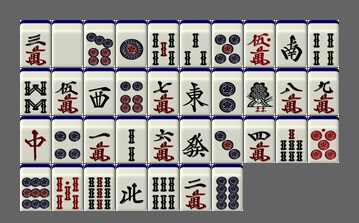0m: (244, 20, 275, 67)
0p: (308, 116, 339, 163)
0s: (52, 164, 83, 211)
1m: (84, 116, 115, 163)
1p: (116, 20, 147, 67)
1s: (244, 68, 275, 115)
1z: (180, 68, 211, 115)
2m: (180, 164, 211, 211)
2p: (212, 68, 243, 115)
2s: (116, 116, 147, 163)
2z: (276, 20, 307, 67)
3m: (20, 20, 51, 67)
3p: (212, 116, 243, 163)
3s: (180, 20, 211, 67)
3z: (84, 68, 115, 115)
4m: (244, 116, 275, 163)
4p: (52, 116, 83, 163)
4s: (308, 20, 339, 67)
4z: (116, 164, 147, 211)
5m: (52, 68, 83, 115)
5p: (212, 20, 243, 67)
5s: (148, 20, 179, 67)
5z: (52, 20, 83, 67)
6m: (148, 116, 179, 163)
6p: (116, 68, 147, 115)
6s: (148, 164, 179, 211)
6z: (180, 116, 211, 163)
7m: (148, 68, 179, 115)
7p: (84, 20, 115, 67)
7s: (276, 116, 307, 163)
7z: (20, 116, 51, 163)
8m: (276, 68, 307, 115)
8p: (212, 164, 243, 211)
8s: (20, 68, 51, 115)
9m: (308, 68, 339, 115)
9p: (20, 164, 51, 211)
9s: (84, 164, 115, 211)
